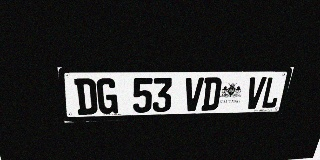3: (152, 78, 172, 112)
5: (133, 78, 153, 113)
D: (74, 78, 98, 115), (201, 77, 222, 111)
G: (96, 78, 118, 114)
L: (260, 77, 283, 109)
V: (244, 77, 267, 109), (183, 77, 204, 111)
